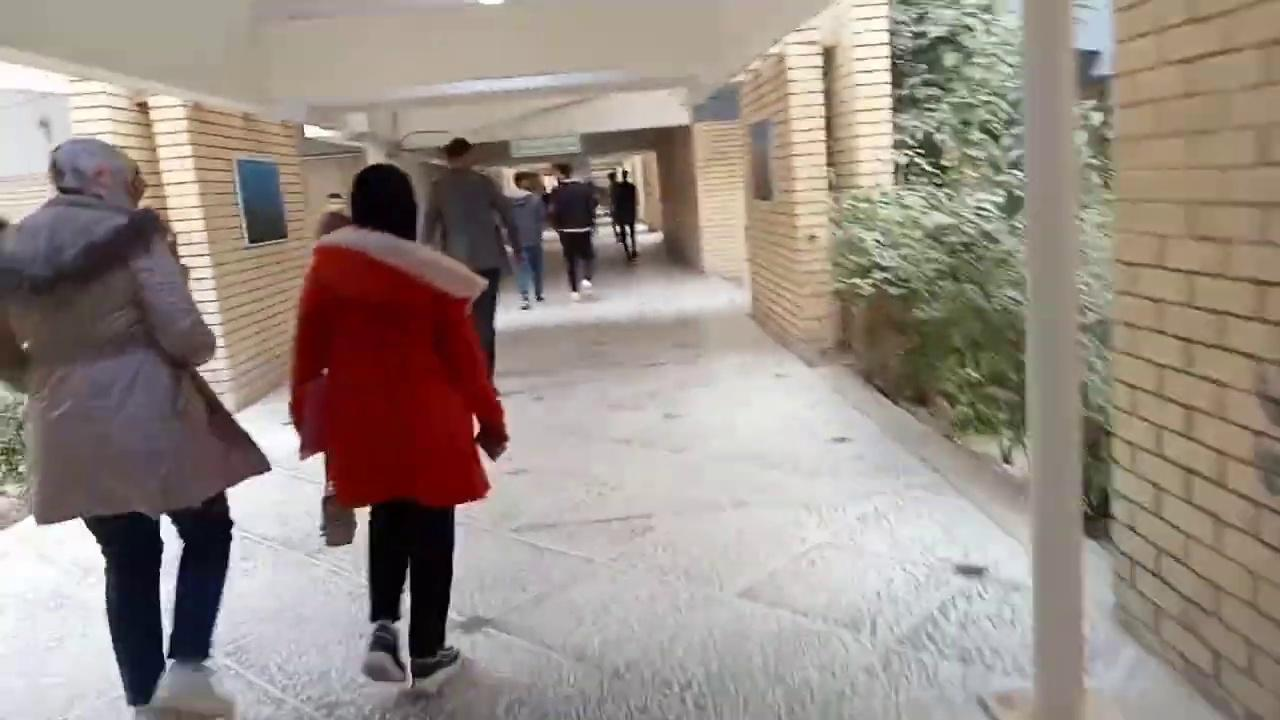person: (0, 136, 272, 707), (288, 161, 510, 684), (419, 136, 525, 395), (312, 206, 357, 547), (547, 163, 599, 300), (507, 171, 548, 310), (613, 168, 639, 259), (606, 171, 622, 242)
tree: (827, 0, 1118, 520)
